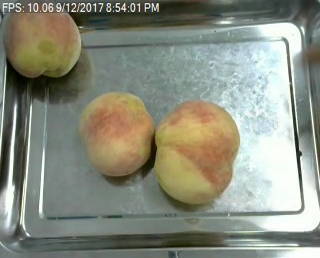Peach: (153, 99, 239, 205), (79, 90, 155, 177), (2, 1, 82, 79)
